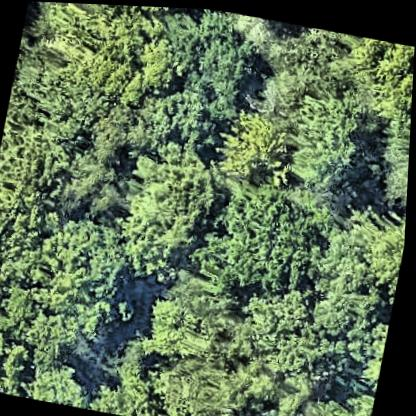tree-top: (241, 26, 381, 185), (196, 163, 342, 296), (111, 138, 227, 287), (24, 1, 169, 111), (243, 270, 377, 378), (27, 206, 137, 322), (14, 130, 134, 231), (149, 271, 264, 372), (214, 78, 321, 184), (0, 109, 99, 220), (312, 198, 404, 310), (171, 6, 266, 107), (145, 343, 262, 416), (118, 189, 198, 284), (21, 296, 114, 370), (345, 31, 415, 116), (364, 96, 413, 212), (42, 68, 113, 147), (94, 343, 164, 416), (145, 87, 221, 154), (213, 103, 279, 180), (28, 355, 96, 407), (354, 306, 394, 394), (130, 33, 184, 98), (0, 211, 39, 297), (289, 380, 374, 416), (0, 323, 40, 396), (0, 282, 40, 332)
